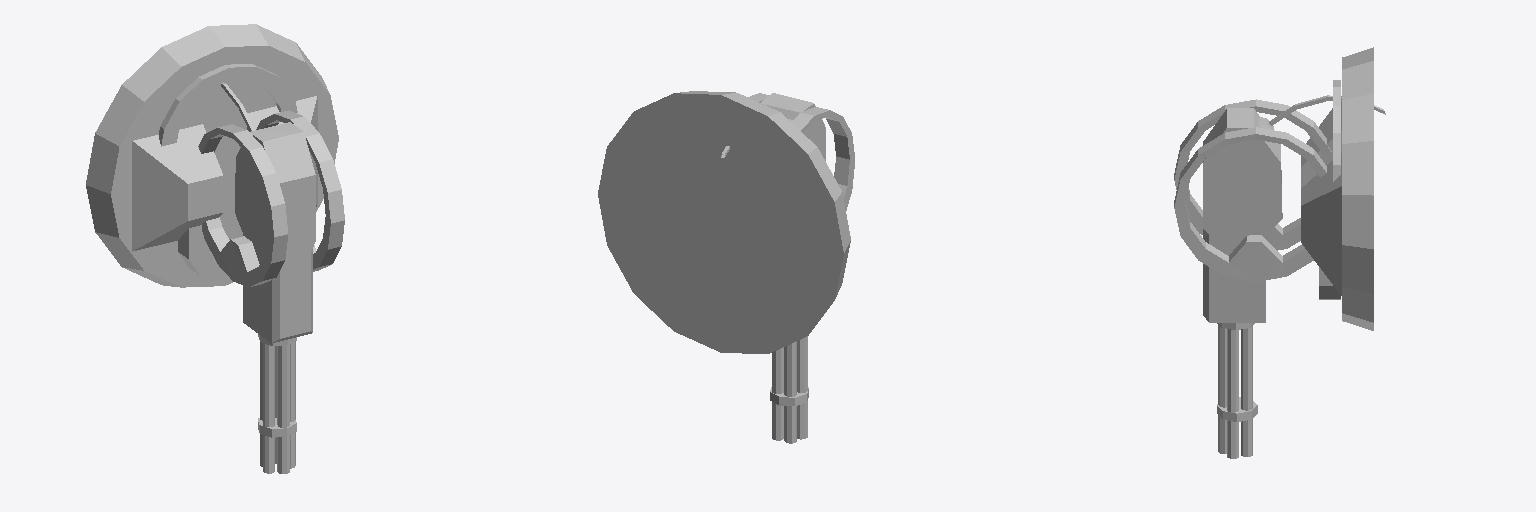
Rendered from tourelle2.obj.
3 views of the same model, side by side, from view 1: azimuth 30°, elevation 25°; view 2: azimuth 150°, elevation 25°; view 3: azimuth 270°, elevation 25° (orthographic).
Bounding box in the file's own units: 3.48 × 5.28 × 2.59.